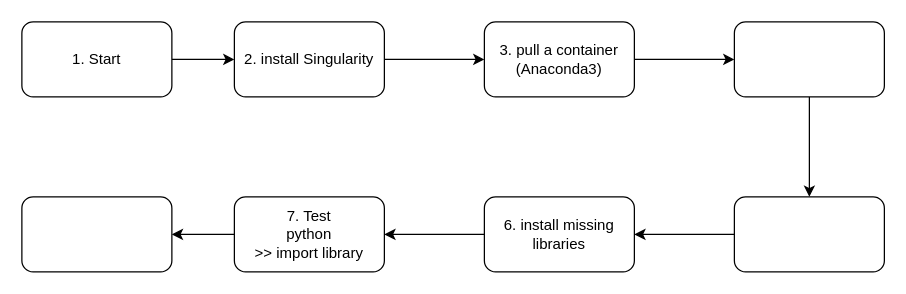
This 906x294 diagram has some shape labels left out. The shapes that lost their labels are listed below. From the top down, each one's centre as x and y in pixels, then its label:
At point 808,59: "4. run (writable)".
At point 96,234: "8. Build container into image".
At point 808,234: "5. install libraries (e.g. vim, opengate)".
